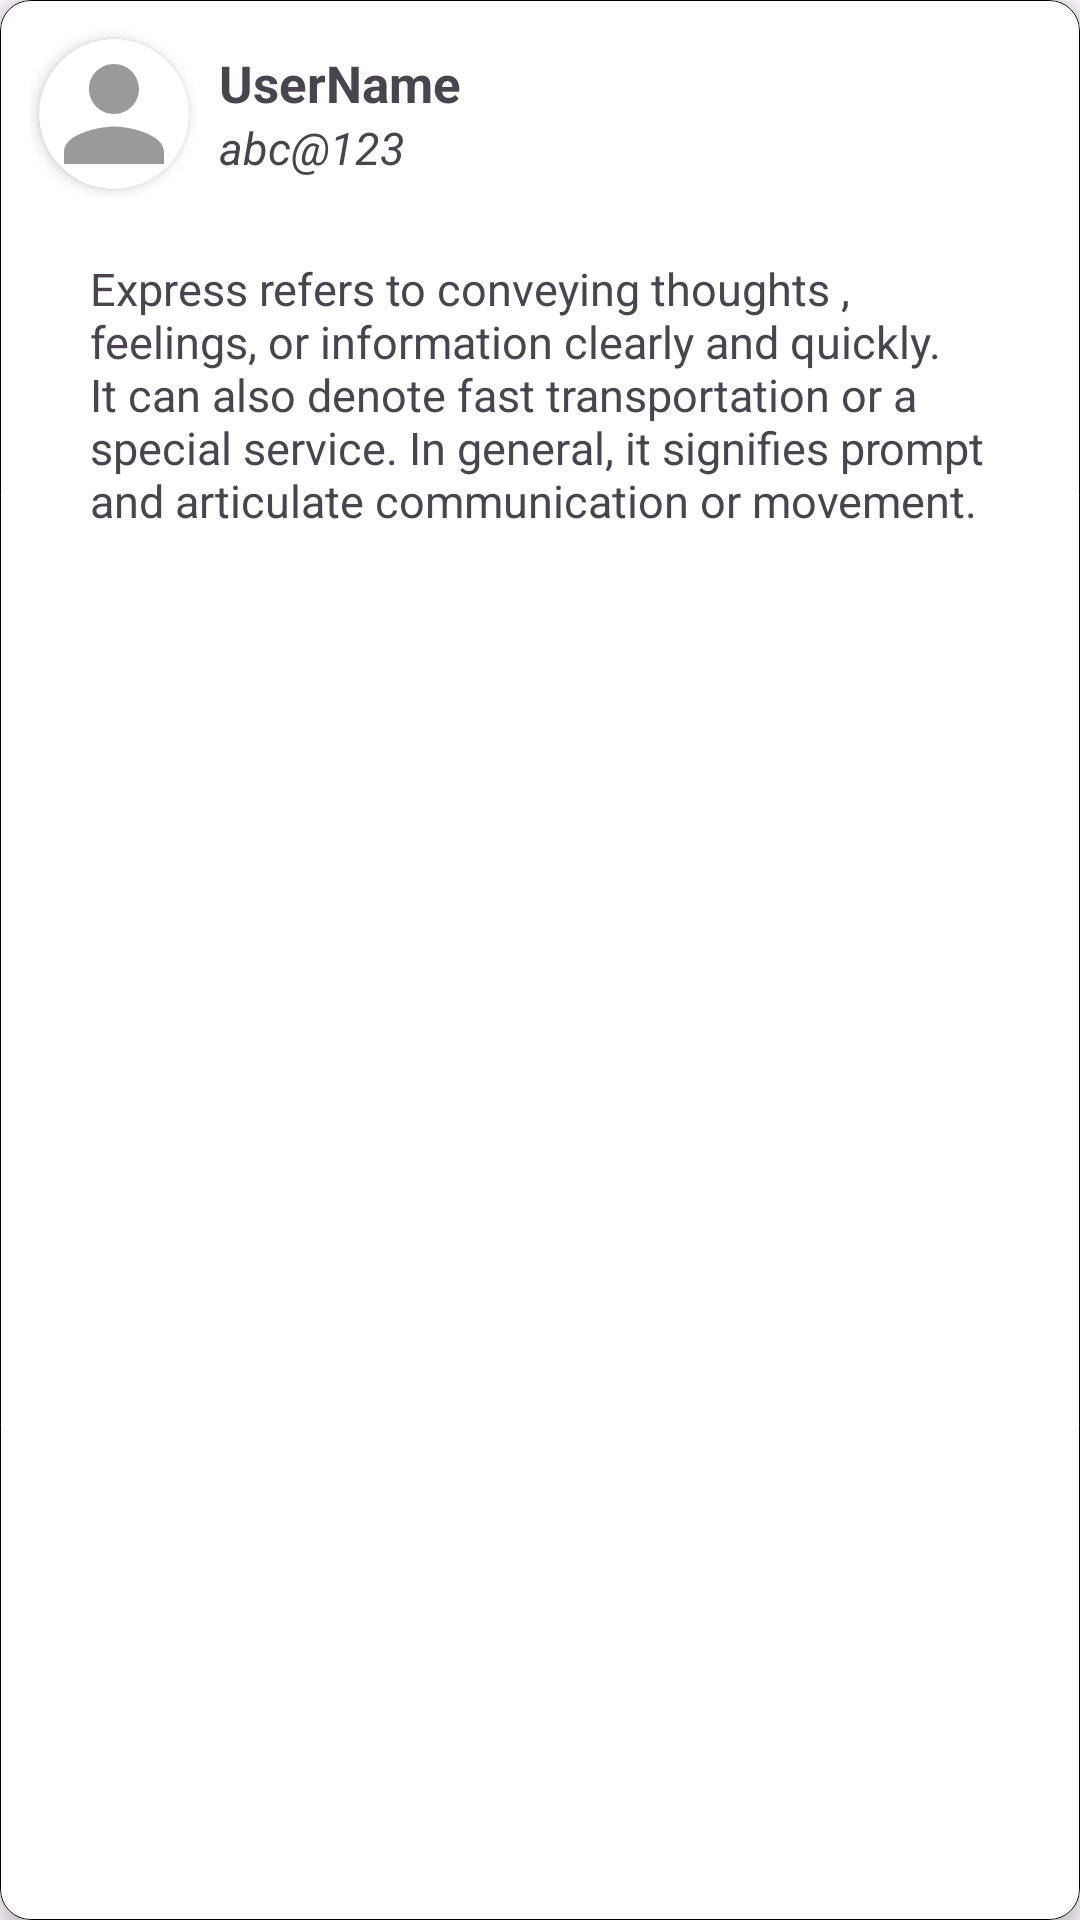

Named icons in this screenshot (1080px×1920px) and their centers, (x=x, y=y):
demoprofile: (x=101, y=115)
